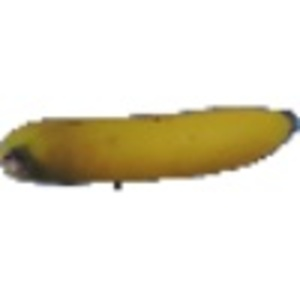banana: (3, 94, 295, 185)
